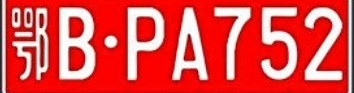B: (59, 7, 95, 79)
